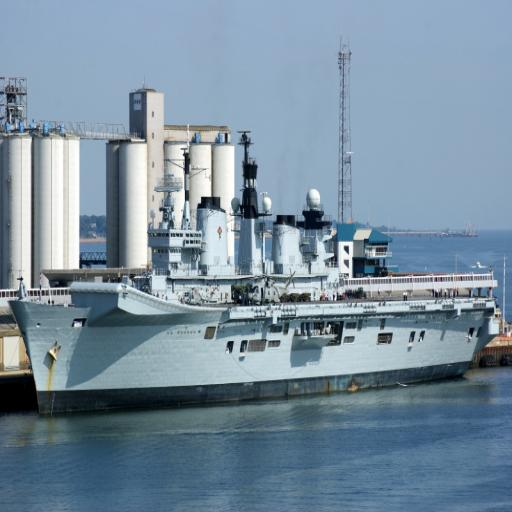Portanaves: (8, 122, 502, 423)
